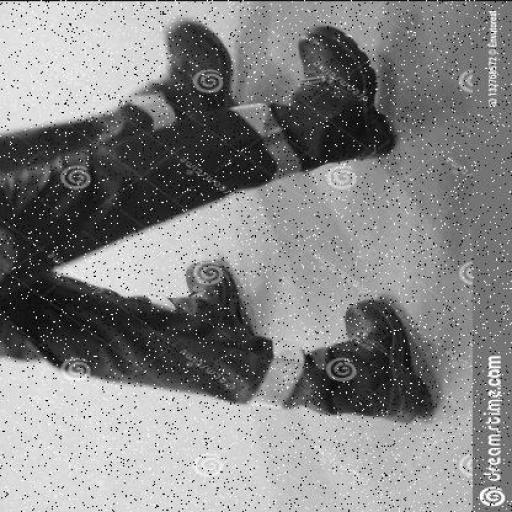safety_shoe: (300, 23, 388, 168), (342, 297, 419, 418), (162, 22, 243, 112), (183, 258, 255, 345)
